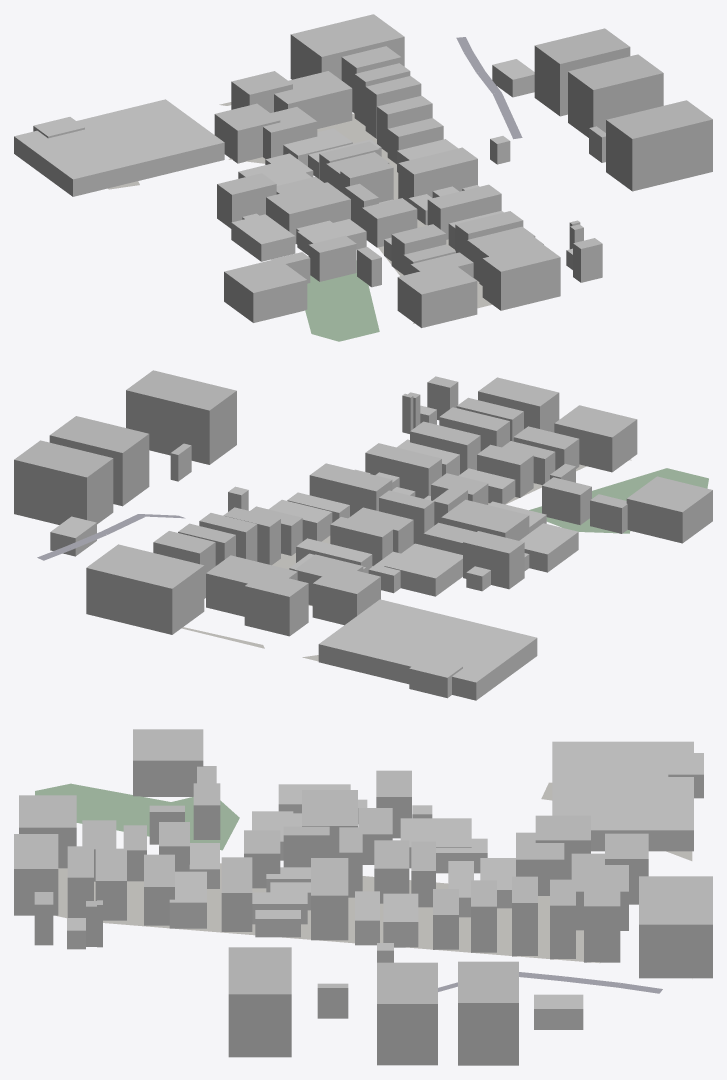
Rendered from 115_89_mid.glb.
3 renders of one model, top to bottom at view 1: azimuth 30°, elevation 25°; view 2: azimuth 150°, elevation 25°; view 3: azimuth 270°, elevation 25°, orthographic. The views are drawn at different scales.
Bounding box in the file's own units: 546 × 53.87 × 532.
